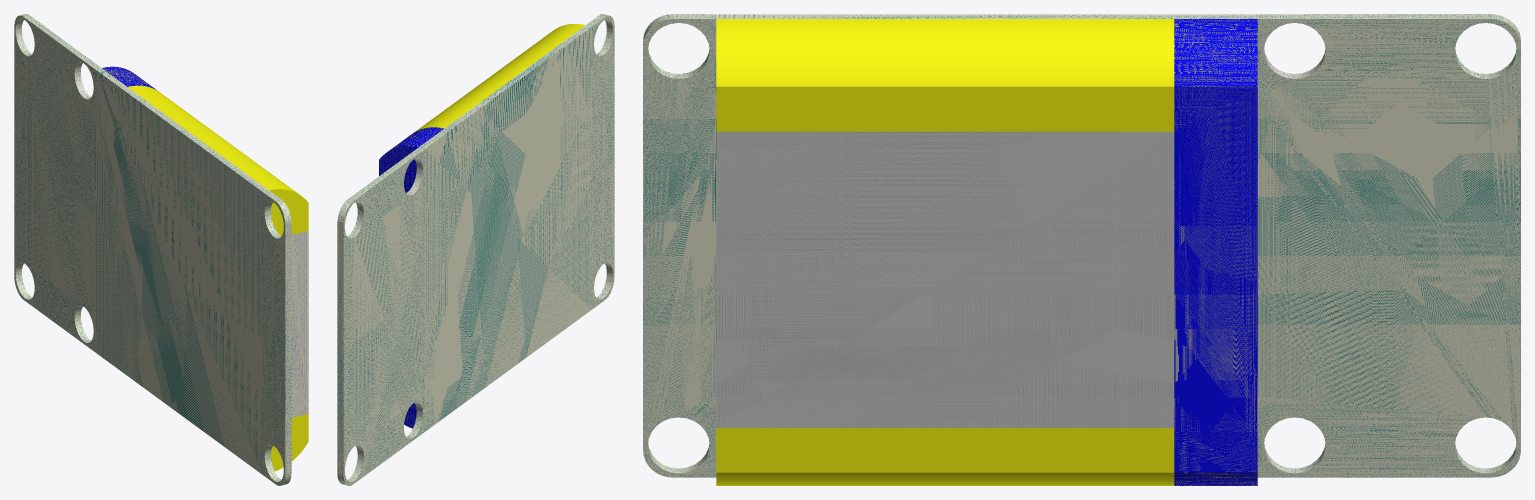
Rendered from ups.dae.
The picture shows the model from 3 angles, left to right: view 1: azimuth 30°, elevation 25°; view 2: azimuth 150°, elevation 25°; view 3: azimuth 270°, elevation 25°; orthographic projection. The views are drawn at different scales.
Parts seen in each view (by area): view 1: Ups (×5); view 2: Ups (×4); view 3: Ups (×7).
Boxes of the visible parts, left/top/right/bottom form: Ups (×5): left=14, top=14, right=308, bottom=485; Ups (×4): left=337, top=14, right=614, bottom=485; Ups (×7): left=643, top=14, right=1520, bottom=485.
Bounding box in the file's own units: 0.3189 × 3.25 × 1.88.
